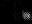person: (22, 10, 31, 19)
